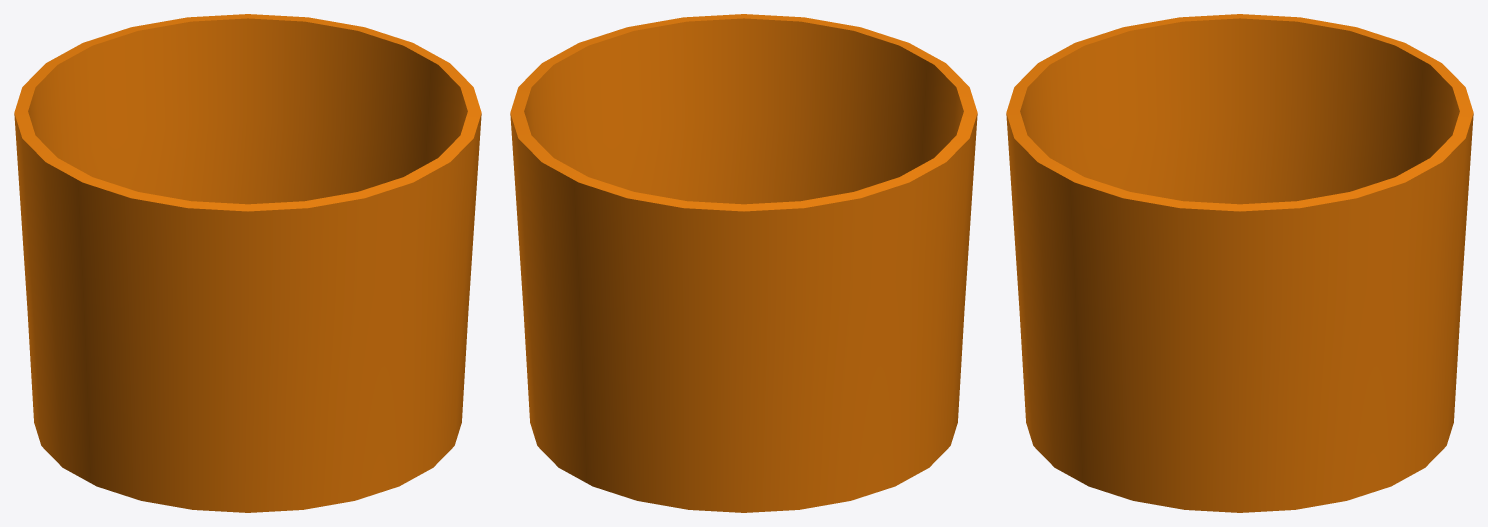
The model's file is cookie.fbx.
3 views of the same model, side by side, from view 1: azimuth 30°, elevation 25°; view 2: azimuth 150°, elevation 25°; view 3: azimuth 270°, elevation 25° (orthographic).
Parts seen in each view (by area): view 1: Cone001; view 2: Cone001; view 3: Cone001.
Part boxes in pixels (x1=…): Cone001: x1=14, y1=14, x2=481, y2=512; Cone001: x1=510, y1=14, x2=977, y2=512; Cone001: x1=1006, y1=14, x2=1473, y2=512.
Size of the model in its own units: 67.77 by 49.79 by 67.77.
